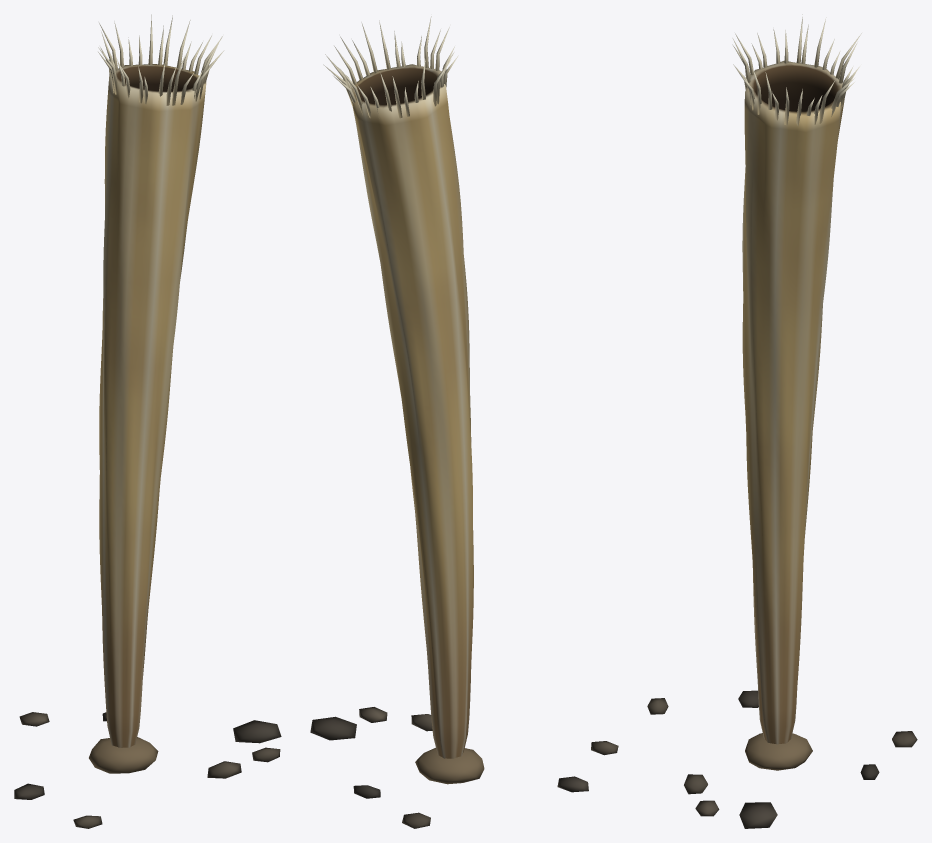
Rendered from LeptomitusZitteli.fbx.
3 renders of one model, left to right at view 1: azimuth 30°, elevation 25°; view 2: azimuth 150°, elevation 25°; view 3: azimuth 270°, elevation 25°, orthographic. The views are drawn at different scales.
Visible parts, largest first — view 1: LeptomitusZitteli; view 2: LeptomitusZitteli; view 3: LeptomitusZitteli.
Part boxes in pixels (x1,y1,x2,y2): LeptomitusZitteli: (14, 14, 281, 828); LeptomitusZitteli: (310, 16, 618, 828); LeptomitusZitteli: (647, 14, 917, 828).
Bounding box in the file's own units: 0.7365 × 1.91 × 0.6228.
